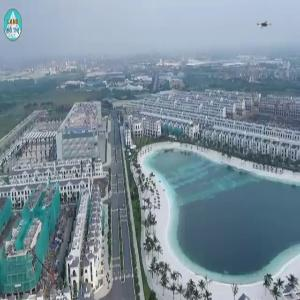drone: (250, 10, 280, 40)
